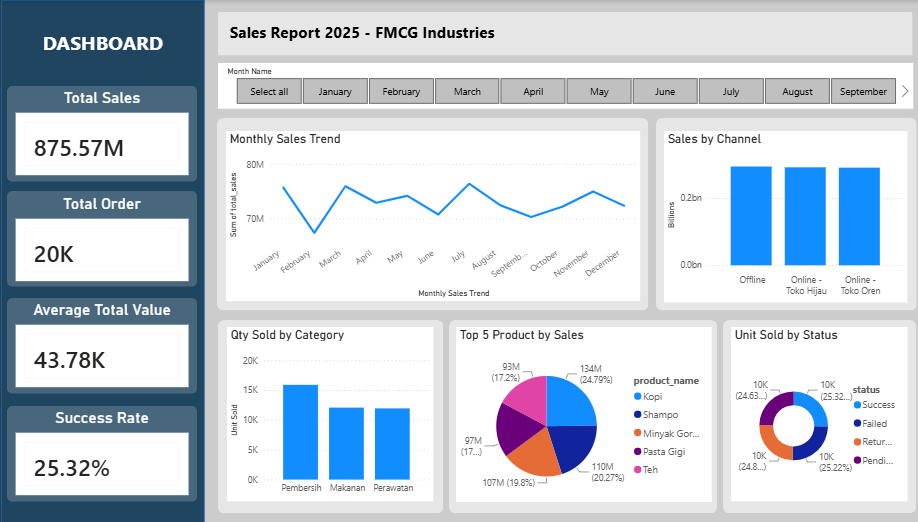

This screenshot's page, from the dashboard's own definition file:
{"tool":"powerbi","page":{"name":"Page 1","canvas":[1280,720],"ordinal":0},"visuals":[{"type":"shape","box":[0,0,280,720],"z":0},{"type":"shape","box":[8.3,118.3,261.7,131.7],"z":1000},{"type":"shape","box":[298,16,956,60],"z":2000},{"type":"shape","box":[297.5,162.5,593.8,265],"z":3000},{"type":"shape","box":[901.2,162.5,358.8,265],"z":4000},{"type":"shape","box":[298.2,440,310,266.4],"z":5000},{"type":"shape","box":[616.7,440,369.2,265.8],"z":6000},{"type":"textbox","box":[310,24.3,382.9,42.9],"z":7000},{"type":"textbox","box":[51.7,35,206.7,53.3],"z":8000},{"type":"cardVisual","title":"Total Sales","fields":{"Data":["Sum(Sales Data.total_sales)"]},"box":[15,121.7,248.3,125],"z":9000},{"type":"shape","box":[8.3,263.3,261.7,131.7],"z":10000},{"type":"shape","box":[8.3,410,261.7,131.7],"z":11000},{"type":"shape","box":[8.3,558.3,261.7,131.7],"z":12000},{"type":"cardVisual","title":"Total Order","fields":{"Data":["CountNonNull(Sales Data.order_id)"]},"box":[15,266.7,248.3,125],"z":13000},{"type":"cardVisual","title":"Average Total Value","fields":{"Data":["Sales Data.Sum of total_sales divided by Count of order_id"]},"box":[15,413.3,248.3,125],"z":14000},{"type":"cardVisual","title":"Success Rate","fields":{"Data":["Sales Data.Success Rate"]},"box":[15,561.7,248.3,125],"z":15000},{"type":"lineChart","title":"Monthly Sales Trend","fields":{"Category":["Sales Data.sales_date.Variation.Date Hierarchy.Month"],"Y":["Sum(Sales Data.total_sales)"]},"box":[310,180,570,233.8],"z":16000},{"type":"columnChart","title":"Sales by Channel","fields":{"Category":["Sales Data.channel"],"Y":["Sum(Sales Data.total_sales)"]},"box":[912.5,180,335,235.8],"z":17000},{"type":"columnChart","title":"Qty Sold by Category","fields":{"Category":["Sales Data.category"],"Y":["Sales Data.Unit Sold"]},"box":[311.1,450,284.4,240],"z":18000},{"type":"shape","box":[994.2,440.8,265.8,265.8],"z":19000},{"type":"donutChart","title":"Unit Sold by Status","fields":{"Category":["Sales Data.status"],"Y":["Sales Data.Unit Sold"]},"box":[1005,450,242.5,240],"z":20000},{"type":"pieChart","title":"Top 5 Product by Sales","fields":{"Category":["Sales Data.product_name"],"Y":["Sum(Sales Data.total_sales)"]},"box":[625.6,450,352.2,241.1],"z":21000},{"type":"slicer","fields":{"Values":["Sales Data.Month Name"]},"box":[298.3,86.7,956.7,63.3],"z":22000}]}

Visuals, with their boxes in screenshot pixels (x1, y1, x2, y2), scaled from the page's 1280x720 canvas onto the 918x522 screenshot:
shape: region(0, 0, 201, 521)
shape: region(6, 86, 194, 181)
shape: region(214, 12, 899, 55)
shape: region(213, 118, 639, 310)
shape: region(646, 118, 904, 310)
shape: region(214, 319, 436, 512)
shape: region(442, 319, 707, 512)
textbox: region(222, 18, 497, 49)
textbox: region(37, 25, 185, 64)
"Total Sales" cardVisual: region(11, 88, 189, 179)
shape: region(6, 191, 194, 286)
shape: region(6, 297, 194, 393)
shape: region(6, 405, 194, 500)
"Total Order" cardVisual: region(11, 193, 189, 284)
"Average Total Value" cardVisual: region(11, 300, 189, 390)
"Success Rate" cardVisual: region(11, 407, 189, 498)
"Monthly Sales Trend" lineChart: region(222, 130, 631, 300)
"Sales by Channel" columnChart: region(654, 130, 895, 301)
"Qty Sold by Category" columnChart: region(223, 326, 427, 500)
shape: region(713, 320, 904, 512)
"Unit Sold by Status" donutChart: region(721, 326, 895, 500)
"Top 5 Product by Sales" pieChart: region(449, 326, 701, 501)
slicer - Sales Data.Month Name: region(214, 63, 900, 109)
